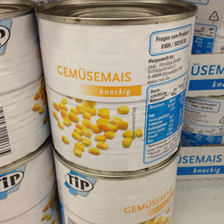corn: (34, 1, 197, 173)
